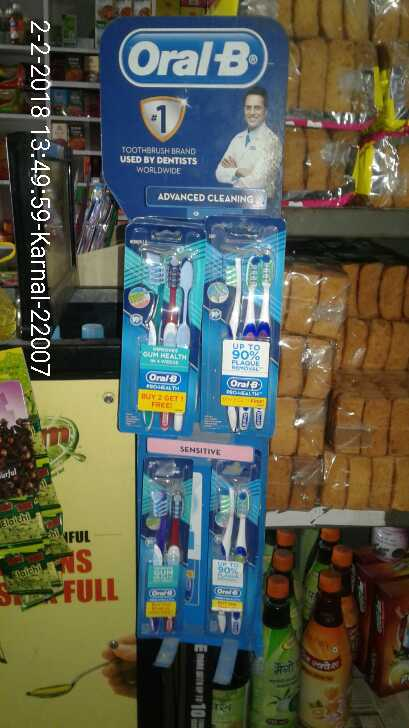oralb: (197, 226, 271, 437), (120, 223, 189, 441), (205, 482, 253, 644), (150, 472, 181, 646)
